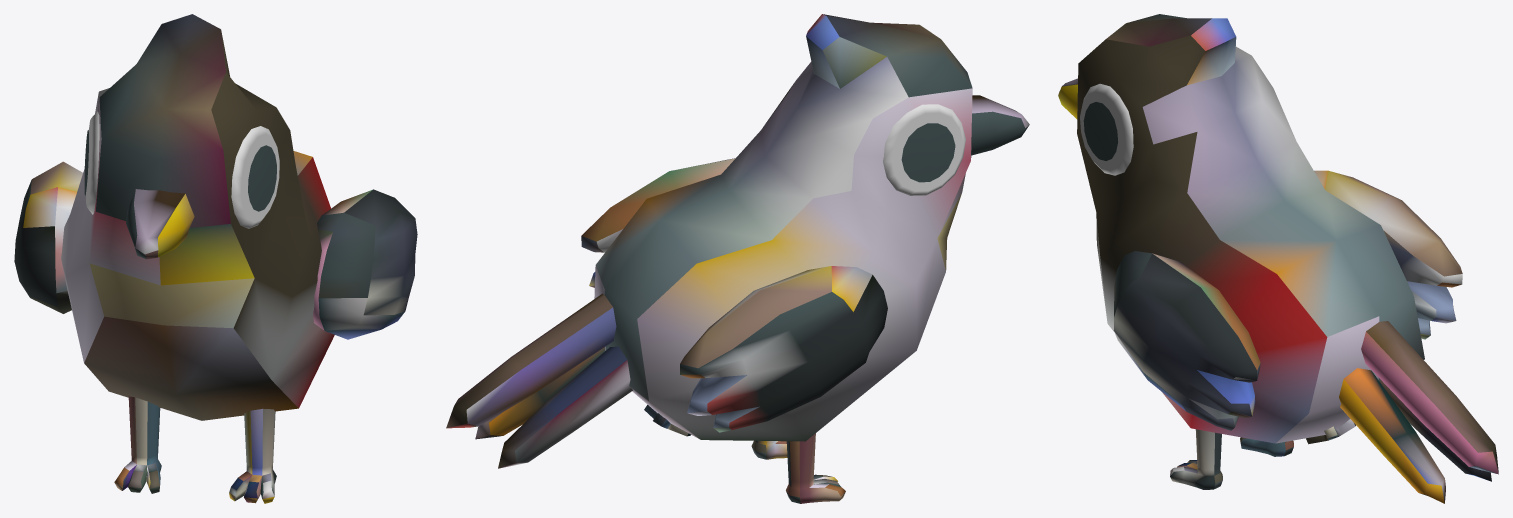
File: Cardinal.glb
3 views of the same model, side by side, from view 1: azimuth 30°, elevation 25°; view 2: azimuth 150°, elevation 25°; view 3: azimuth 270°, elevation 25° (orthographic). The views are drawn at different scales.
Parts seen in each view (by area): view 1: 20; view 2: 20; view 3: 20.
Part boxes in pixels (box(x1,y1,x2,y2)): 20: box(14, 14, 417, 503); 20: box(446, 14, 1029, 503); 20: box(1058, 14, 1498, 503).
Bounding box in the file's own units: 0.5047 × 0.6111 × 0.5579.
